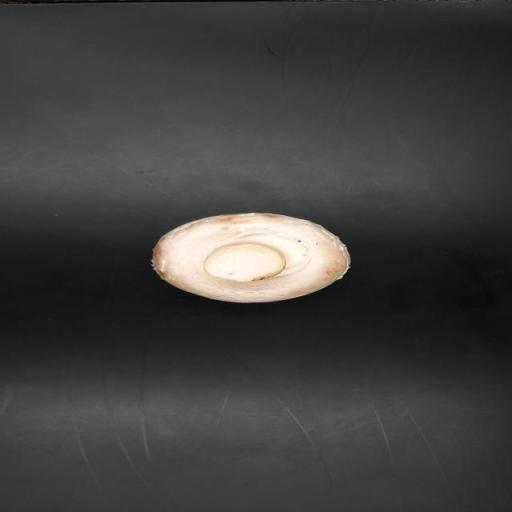mushroom: (148, 207, 354, 311)
